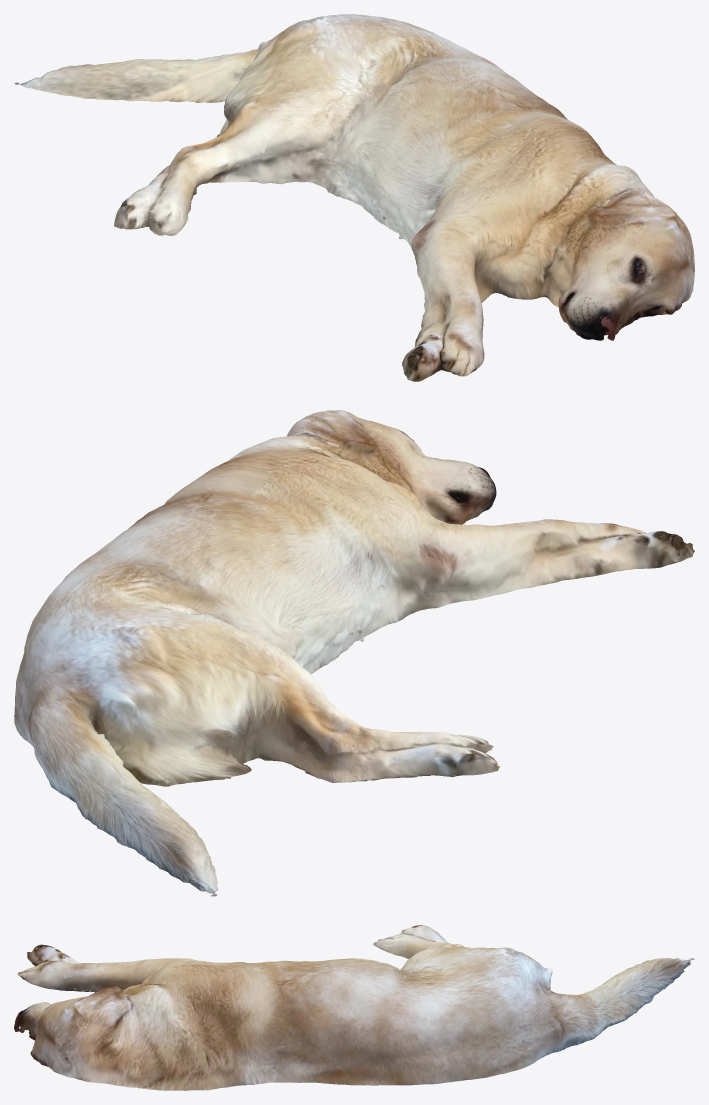
The model's file is dog.glb.
3 views of the same model, one above another, from view 1: azimuth 30°, elevation 25°; view 2: azimuth 150°, elevation 25°; view 3: azimuth 270°, elevation 25° (orthographic). The views are drawn at different scales.
Parts seen in each view (by area): view 1: unnamed_1; view 2: unnamed_1; view 3: unnamed_1.
Boxes of the visible parts, x1=… form: unnamed_1: x1=14, y1=14, x2=694, y2=381; unnamed_1: x1=14, y1=410, x2=694, y2=896; unnamed_1: x1=14, y1=925, x2=694, y2=1090.
Size of the model in its own units: 0.6933 by 0.1735 by 1.24.
Materials: 1 (1 with a texture image).
